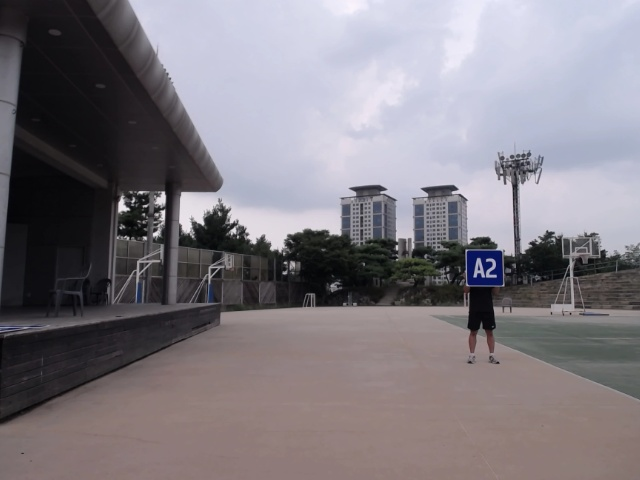delivery_a2: (466, 250, 504, 286)
